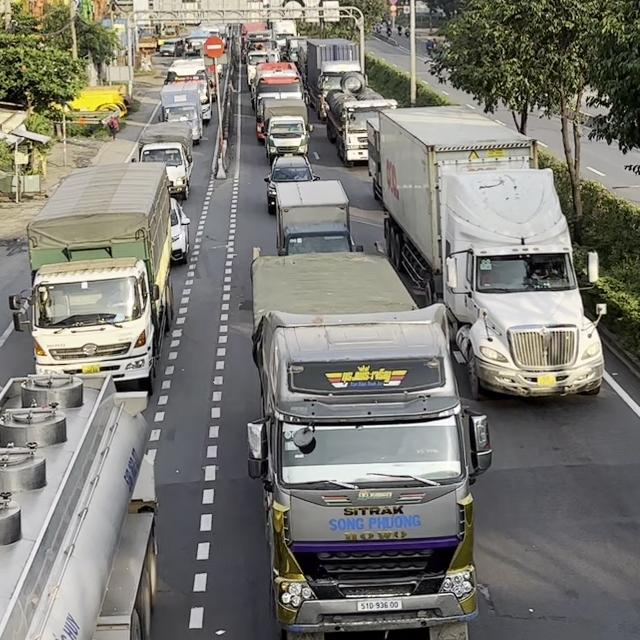car: (262, 152, 320, 214), (168, 196, 190, 264)
truck: (245, 249, 493, 639), (366, 104, 607, 400), (0, 369, 159, 639), (9, 161, 175, 391), (273, 178, 362, 256), (322, 86, 398, 167), (299, 37, 363, 119), (136, 122, 193, 199), (261, 98, 313, 162)
